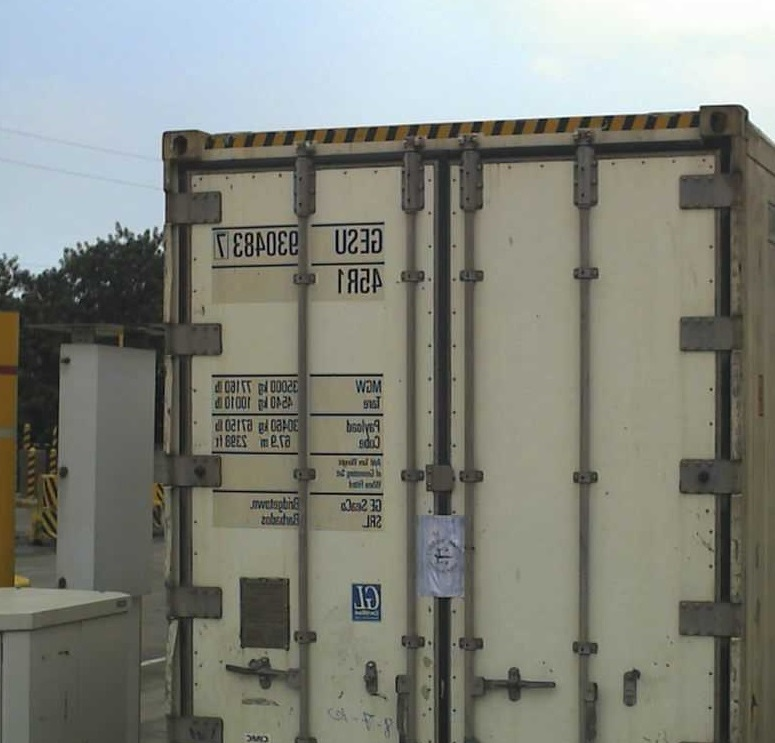container_door: (156, 105, 745, 743)
